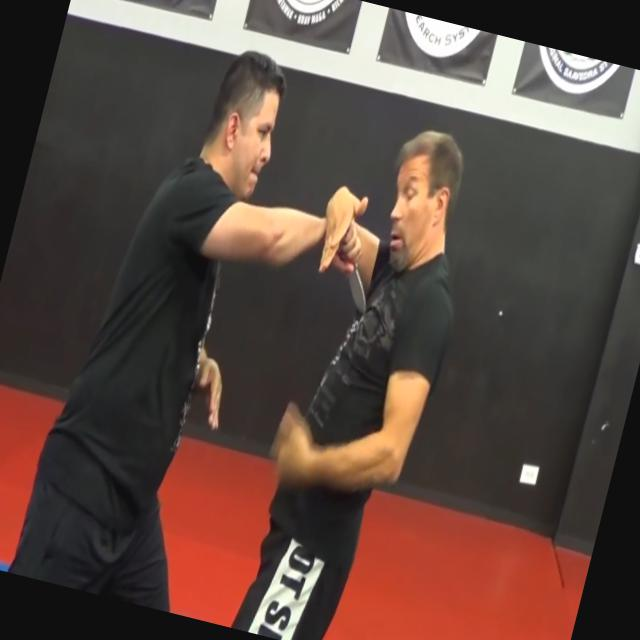knife: (318, 220, 386, 318)
